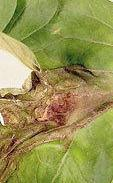Tomato leaf late blight: (0, 68, 113, 183)
